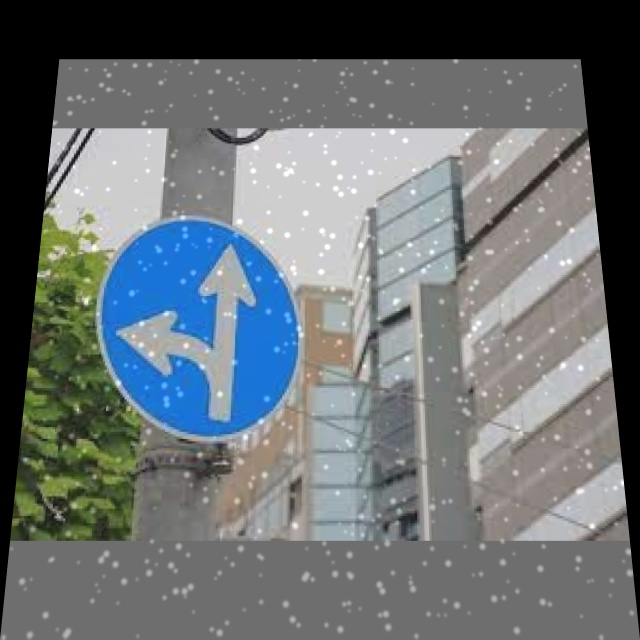Compulsory_Ahead_or_Turn_Left: (88, 213, 306, 432)
